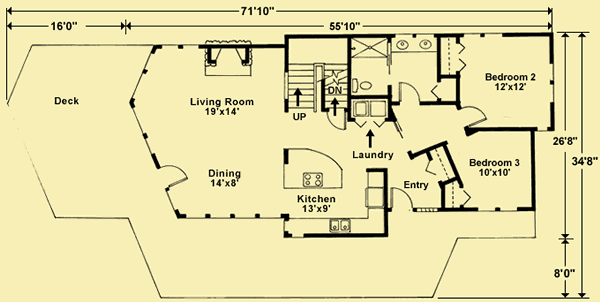door: (155, 161, 190, 190), (387, 184, 419, 214), (456, 105, 489, 127), (396, 78, 422, 103)
kitchen_bar: (280, 144, 348, 191)
large_sink: (351, 74, 374, 94)
small_sink: (390, 33, 437, 55)
stairs: (283, 34, 352, 113)
twin_sink: (328, 215, 353, 233)
